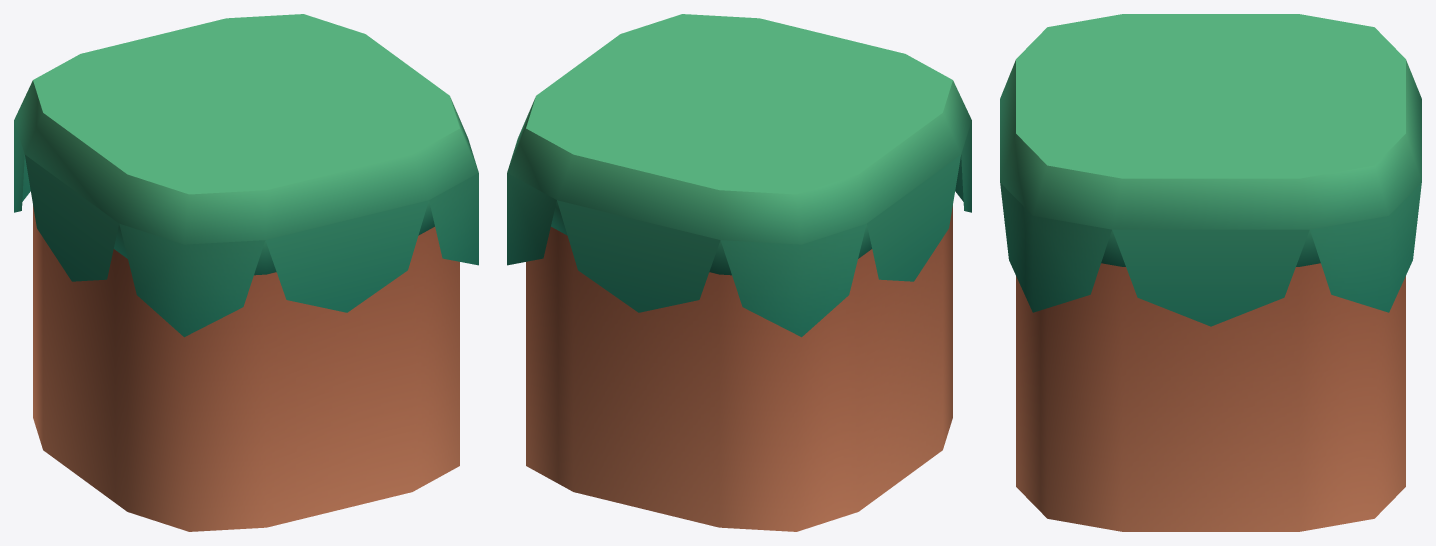
The model's file is block_grass_overhang_corner.glb.
The picture shows the model from 3 angles, left to right: view 1: azimuth 30°, elevation 25°; view 2: azimuth 150°, elevation 25°; view 3: azimuth 270°, elevation 25°; orthographic projection. The views are drawn at different scales.
Parts seen in each view (by area): view 1: block-grass-overhang-corner; view 2: block-grass-overhang-corner; view 3: block-grass-overhang-corner.
Part boxes in pixels (<box>): block-grass-overhang-corner: <box>14,14,478,531</box>; block-grass-overhang-corner: <box>507,14,971,531</box>; block-grass-overhang-corner: <box>1000,14,1421,531</box>.
Bounding box in the file's own units: 1.08 × 1 × 1.08.
Materials: 1 (1 with a texture image).
